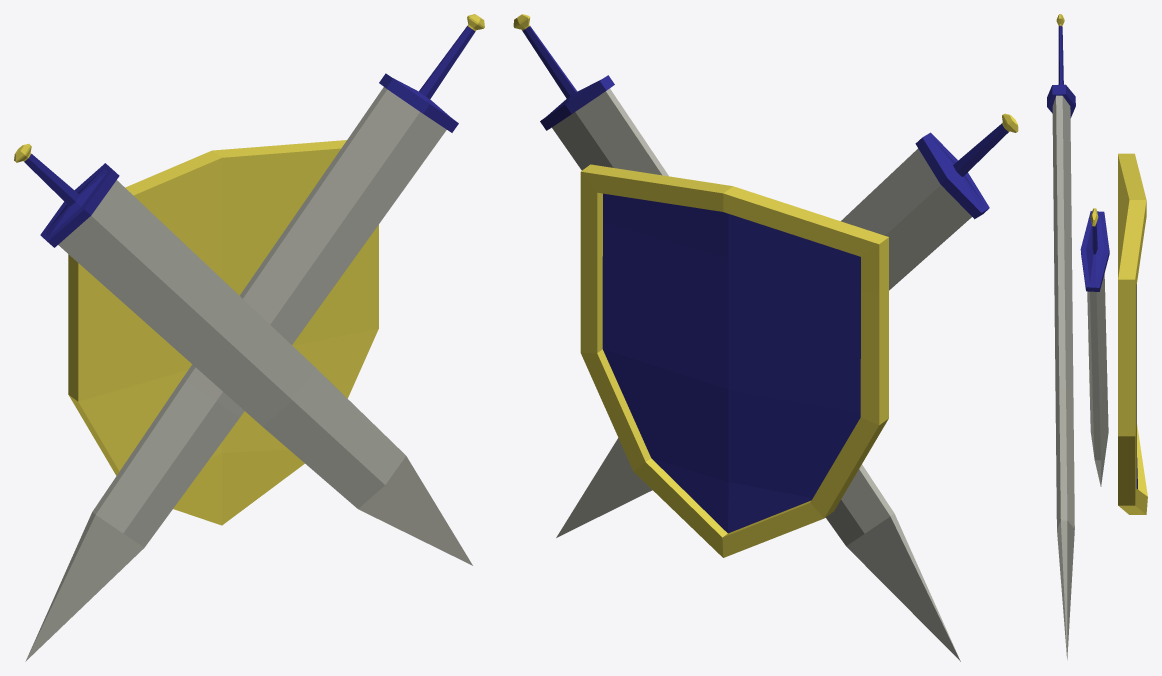
File: winicon.fbx
3 views of the same model, side by side, from view 1: azimuth 30°, elevation 25°; view 2: azimuth 150°, elevation 25°; view 3: azimuth 270°, elevation 25° (orthographic). The views are drawn at different scales.
Visible parts, largest first — view 1: winner; view 2: winner; view 3: winner.
Boxes of the visible parts, bbox=[...] form: winner: bbox=[14, 14, 484, 661]; winner: bbox=[513, 14, 1018, 661]; winner: bbox=[1047, 14, 1147, 659].
Bounding box in the file's own units: 1.57 × 0.3274 × 1.66.
